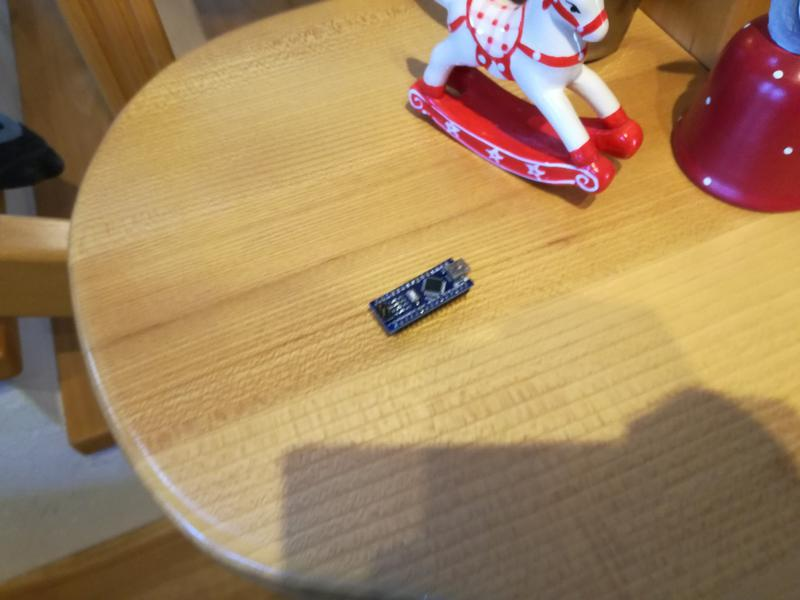Arduino_Nano: (364, 255, 477, 337)
